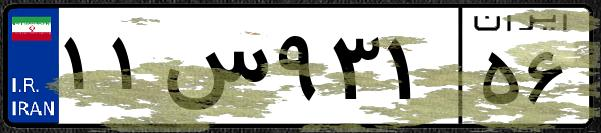1: (385, 28, 445, 110), (57, 26, 110, 100), (110, 28, 158, 98)
3: (330, 28, 385, 110)
5: (475, 38, 525, 113)
6: (525, 38, 570, 115)
9: (270, 28, 330, 110)
س: (158, 20, 270, 120)
